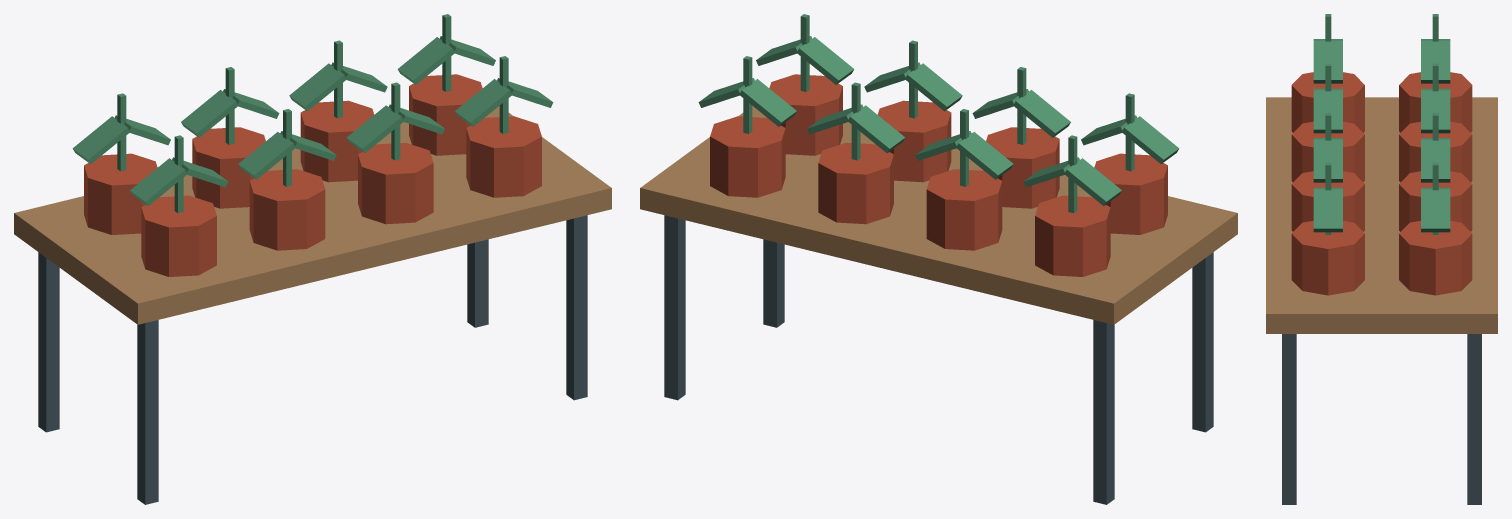
The model's file is potting_bench.glb.
3 views of the same model, side by side, from view 1: azimuth 30°, elevation 25°; view 2: azimuth 150°, elevation 25°; view 3: azimuth 270°, elevation 25° (orthographic). The views are drawn at different scales.
Visible parts, largest first — view 1: potting_bench; view 2: potting_bench; view 3: potting_bench.
Part boxes in pixels (x1=…): potting_bench: x1=14, y1=14, x2=611, y2=504; potting_bench: x1=640, y1=14, x2=1237, y2=504; potting_bench: x1=1266, y1=14, x2=1497, y2=504.
Size of the model in its own units: 2.1 by 1.42 by 0.95.
